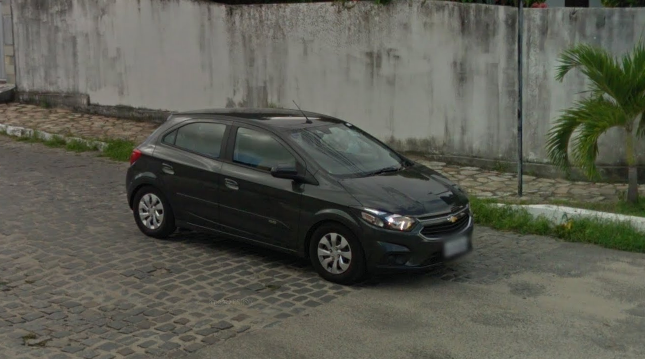car: (120, 96, 481, 286)
